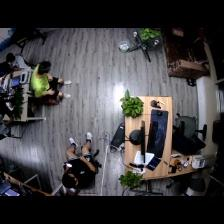normal: (63, 132, 100, 190), (31, 61, 72, 102), (5, 50, 32, 69)
